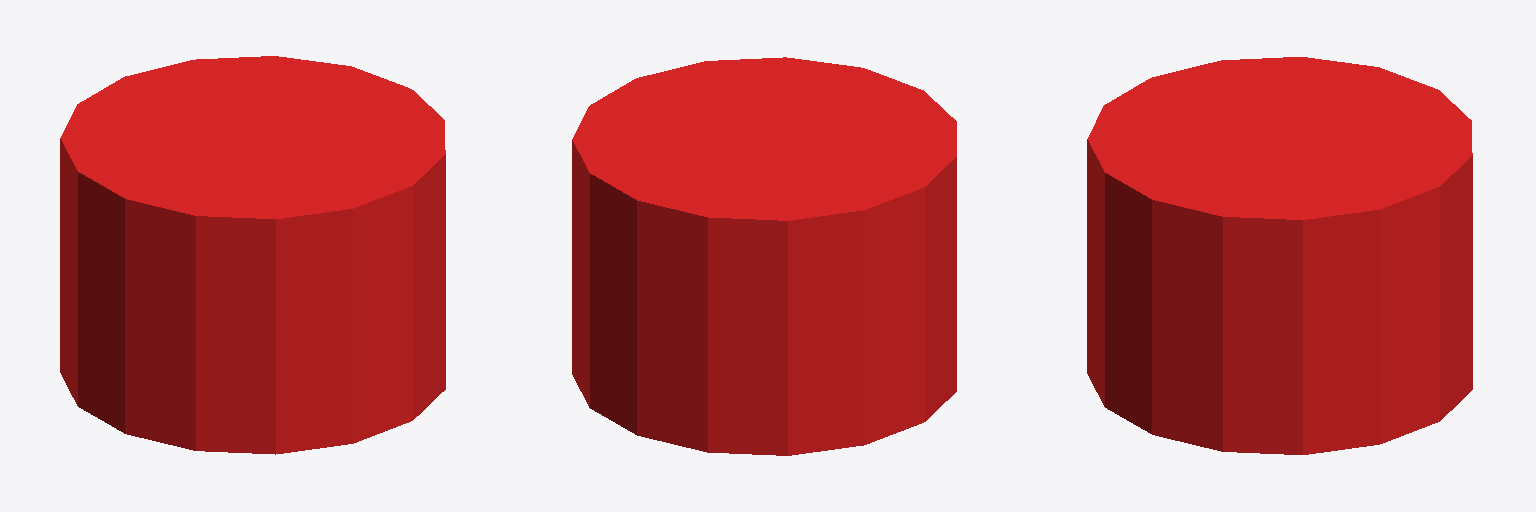
File: enemyBulletOBJ.obj
The picture shows the model from 3 angles: view 1: azimuth 30°, elevation 25°; view 2: azimuth 150°, elevation 25°; view 3: azimuth 270°, elevation 25°; orthographic projection.
Visible parts, largest first — view 1: pCylinder2; view 2: pCylinder2; view 3: pCylinder2.
Boxes of the visible parts, x1,y1,x2,y2 form: pCylinder2: [60, 56, 445, 454]; pCylinder2: [572, 57, 956, 455]; pCylinder2: [1087, 57, 1472, 454].
Size of the model in its own units: 2.07 by 1.39 by 2.06.